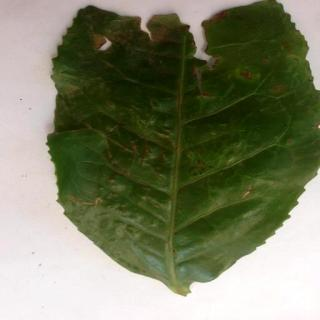Algal Leaf: (48, 1, 320, 297)
